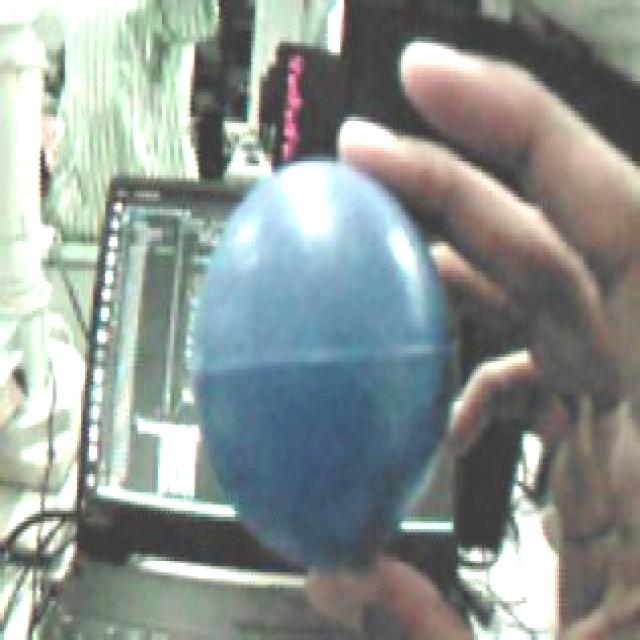BallPurple: (190, 158, 456, 562)
